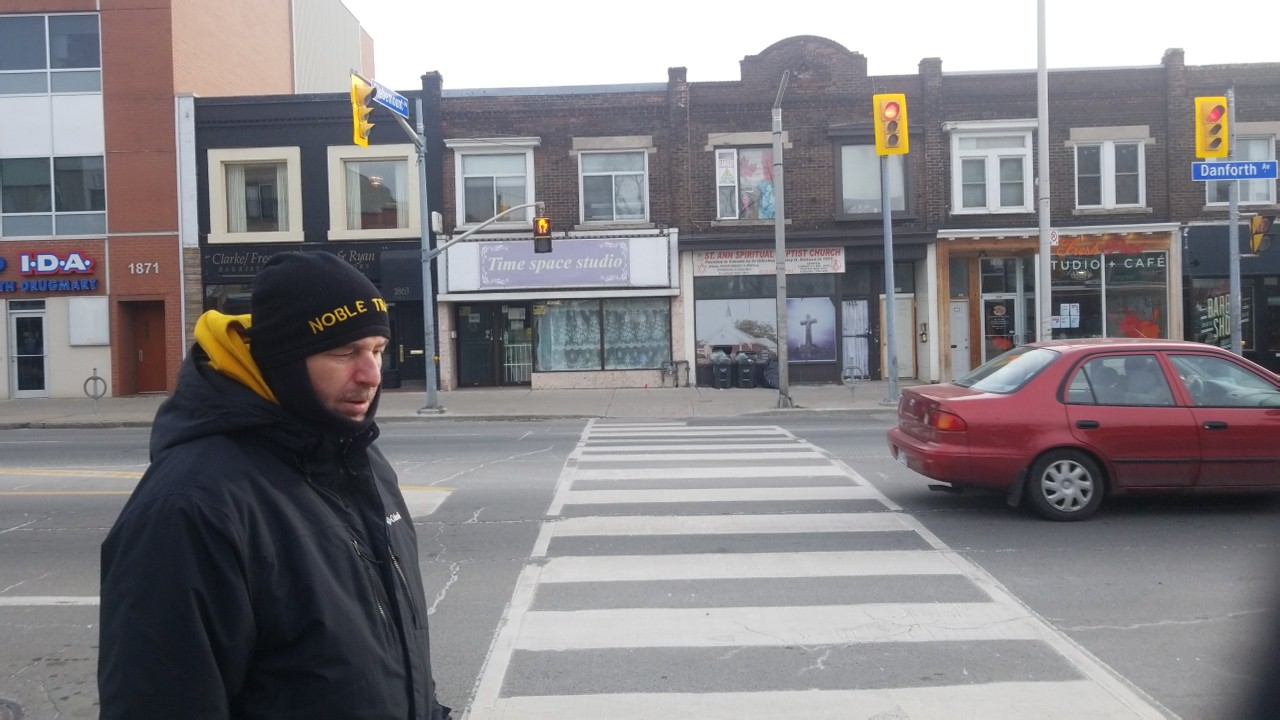light: (530, 214, 553, 255)
